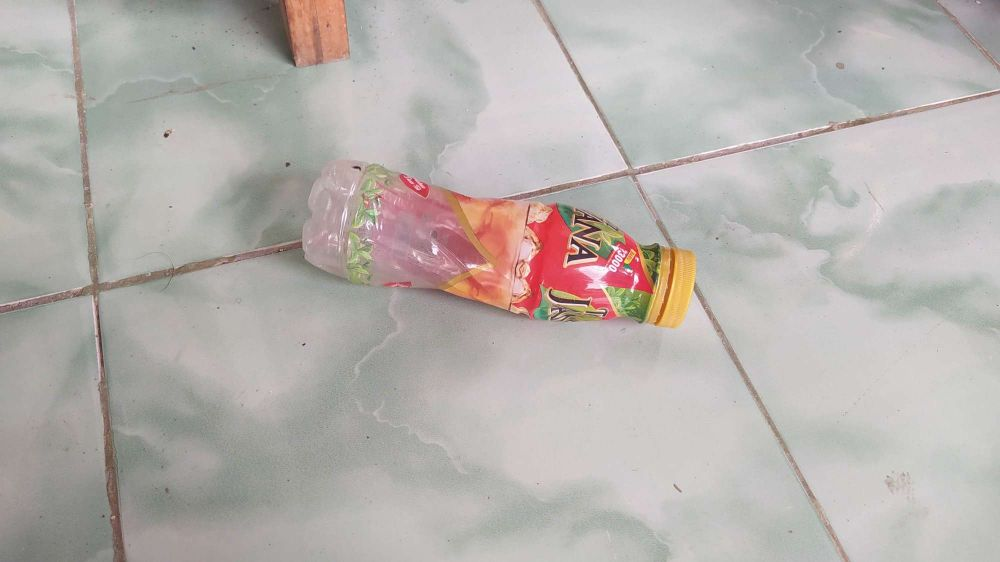botol: (247, 137, 735, 339)
